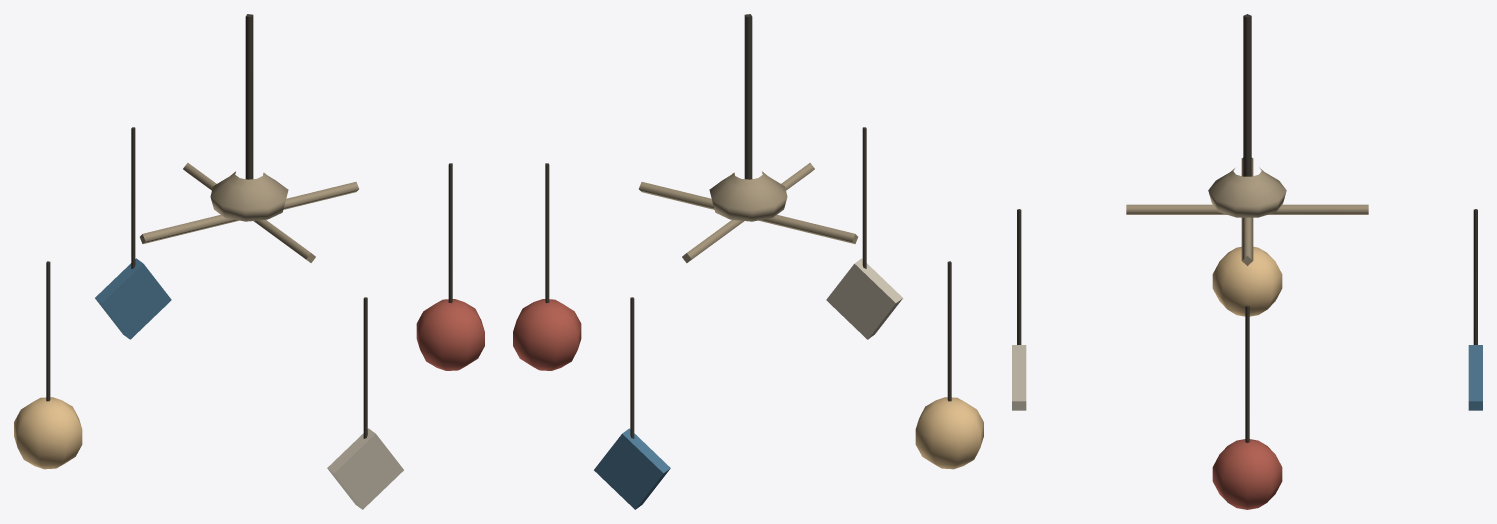
The model's file is nursery_mobile.glb.
The picture shows the model from 3 angles, left to right: view 1: azimuth 30°, elevation 25°; view 2: azimuth 150°, elevation 25°; view 3: azimuth 270°, elevation 25°; orthographic projection.
Visible parts, largest first — view 1: nursery_mobile; view 2: nursery_mobile; view 3: nursery_mobile.
Part boxes in pixels (x1,y1,x2,y2): nursery_mobile: (14,14,484,509); nursery_mobile: (513,14,983,509); nursery_mobile: (1012,14,1482,509).
Bounding box in the file's own units: 0.7375 × 0.6156 × 0.66.
